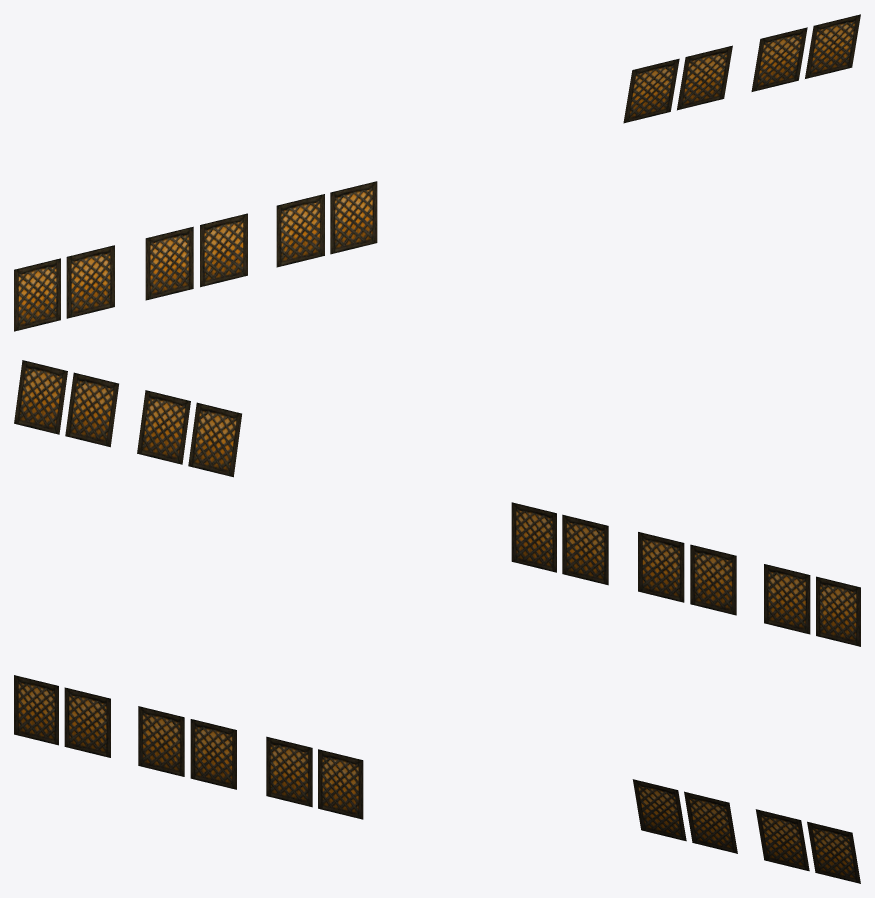
Rendered from LAKETOWN_EXTERIOR_PS_LT_PLANE620.fbx.
3 renders of one model, top to bottom at view 1: azimuth 30°, elevation 25°; view 2: azimuth 150°, elevation 25°; view 3: azimuth 330°, elevation 25°, orthographic. The views are drawn at different scales.
Parts seen in each view (by area): view 1: LAKETOWN_EXTERIOR_PS_LT_PLANE620; view 2: LAKETOWN_EXTERIOR_PS_LT_PLANE620; view 3: LAKETOWN_EXTERIOR_PS_LT_PLANE620.
Boxes of the visible parts, x1,y1,x2,y2 form: LAKETOWN_EXTERIOR_PS_LT_PLANE620: (14,14,860,331); LAKETOWN_EXTERIOR_PS_LT_PLANE620: (14,360,860,646); LAKETOWN_EXTERIOR_PS_LT_PLANE620: (14,675,860,883).
Size of the model in its own units: 190430 by 20781 by 8720.
1 material, 1 textured.
